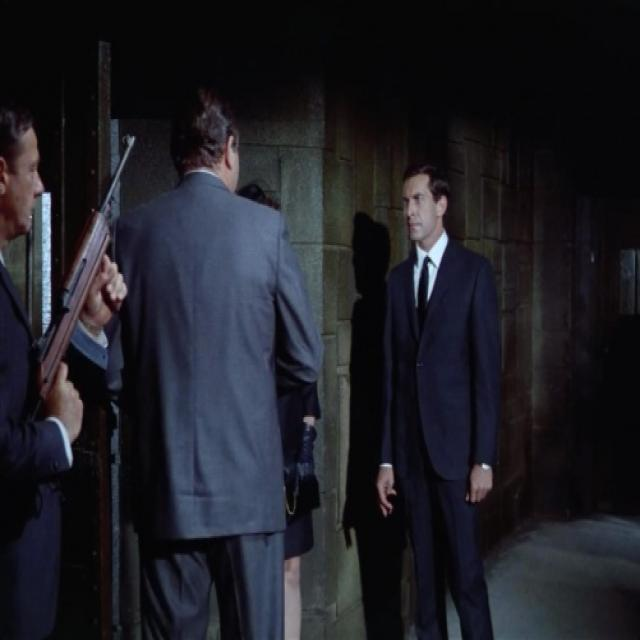rifle: (27, 124, 144, 443)
